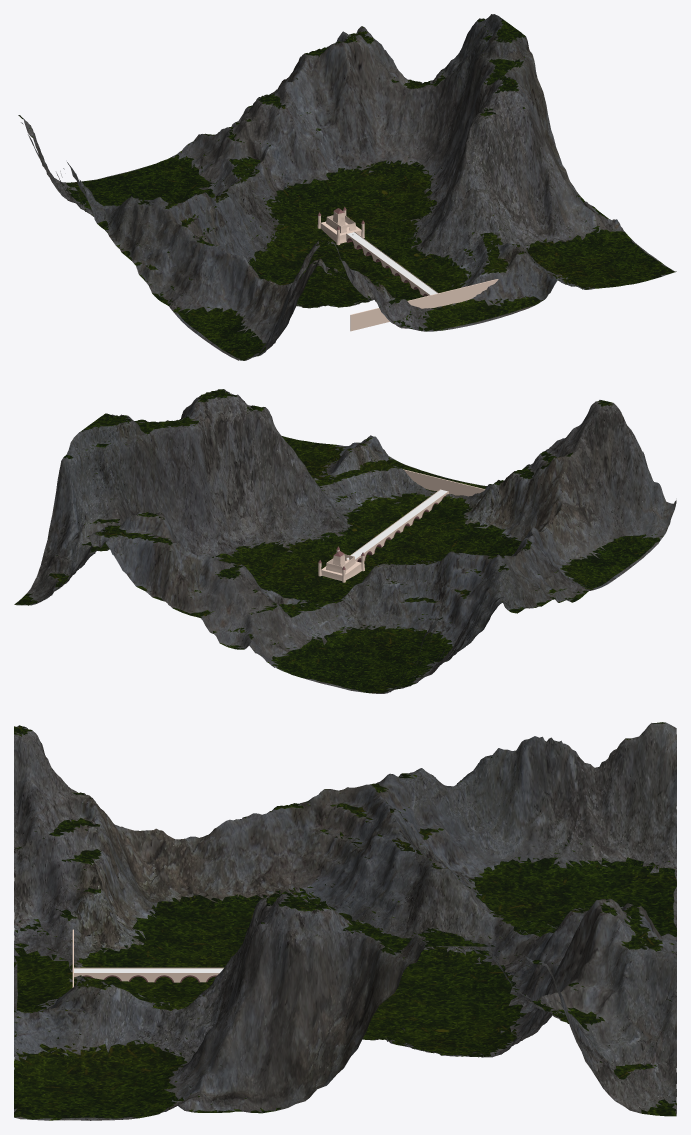
Rendered from castle.gltf.
3 views of the same model, one above another, from view 1: azimuth 30°, elevation 25°; view 2: azimuth 150°, elevation 25°; view 3: azimuth 270°, elevation 25° (orthographic). The views are drawn at different scales.
Parts seen in each view (by area): view 1: E_None_terrain, E_Mesh_Wall, E_None_Bridge; view 2: E_None_terrain, E_None_Bridge, E_Mesh_Wall; view 3: E_None_terrain, E_None_Bridge.
Boxes of the visible parts, left/top/right/bottom form: E_None_terrain: left=18, top=14, right=676, bottom=360; E_Mesh_Wall: left=350, top=279, right=498, bottom=331; E_None_Bridge: left=346, top=232, right=438, bottom=296; E_None_terrain: left=14, top=389, right=676, bottom=693; E_None_Bridge: left=346, top=489, right=448, bottom=562; E_Mesh_Wall: left=403, top=469, right=485, bottom=496; E_None_terrain: left=14, top=722, right=676, bottom=1120; E_None_Bridge: left=74, top=967, right=223, bottom=982.
Size of what is drawn, in the model's own units: 512 by 151 by 512.
